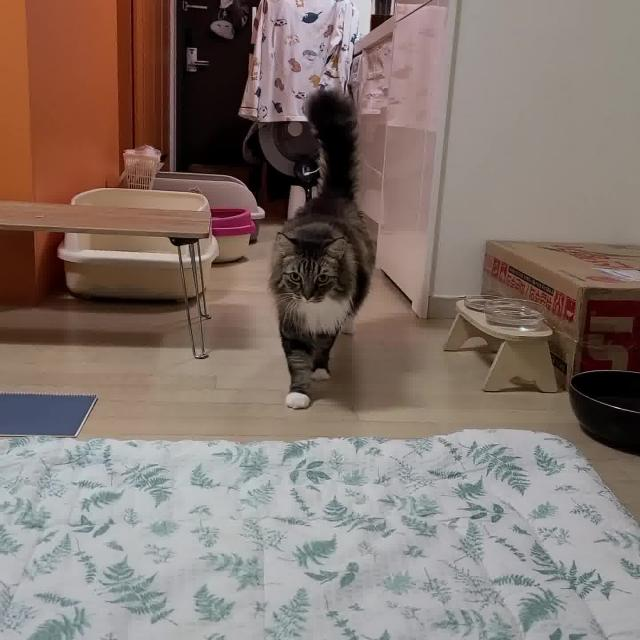cat: (260, 78, 390, 420)
